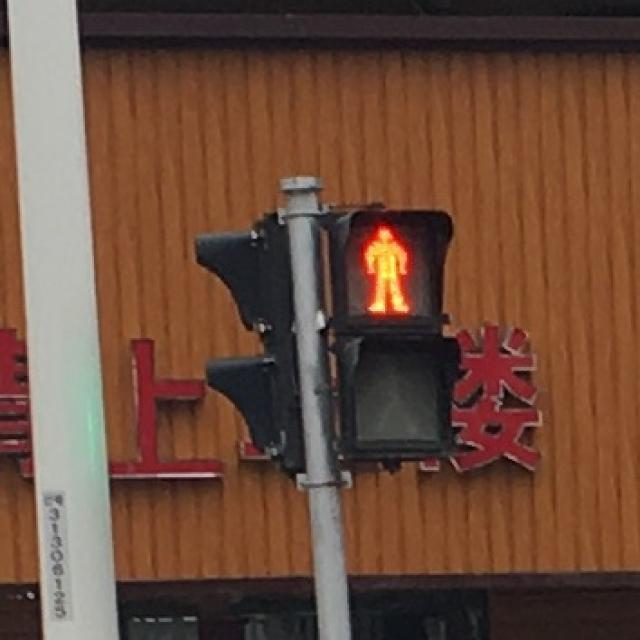red_light: (346, 215, 428, 324)
